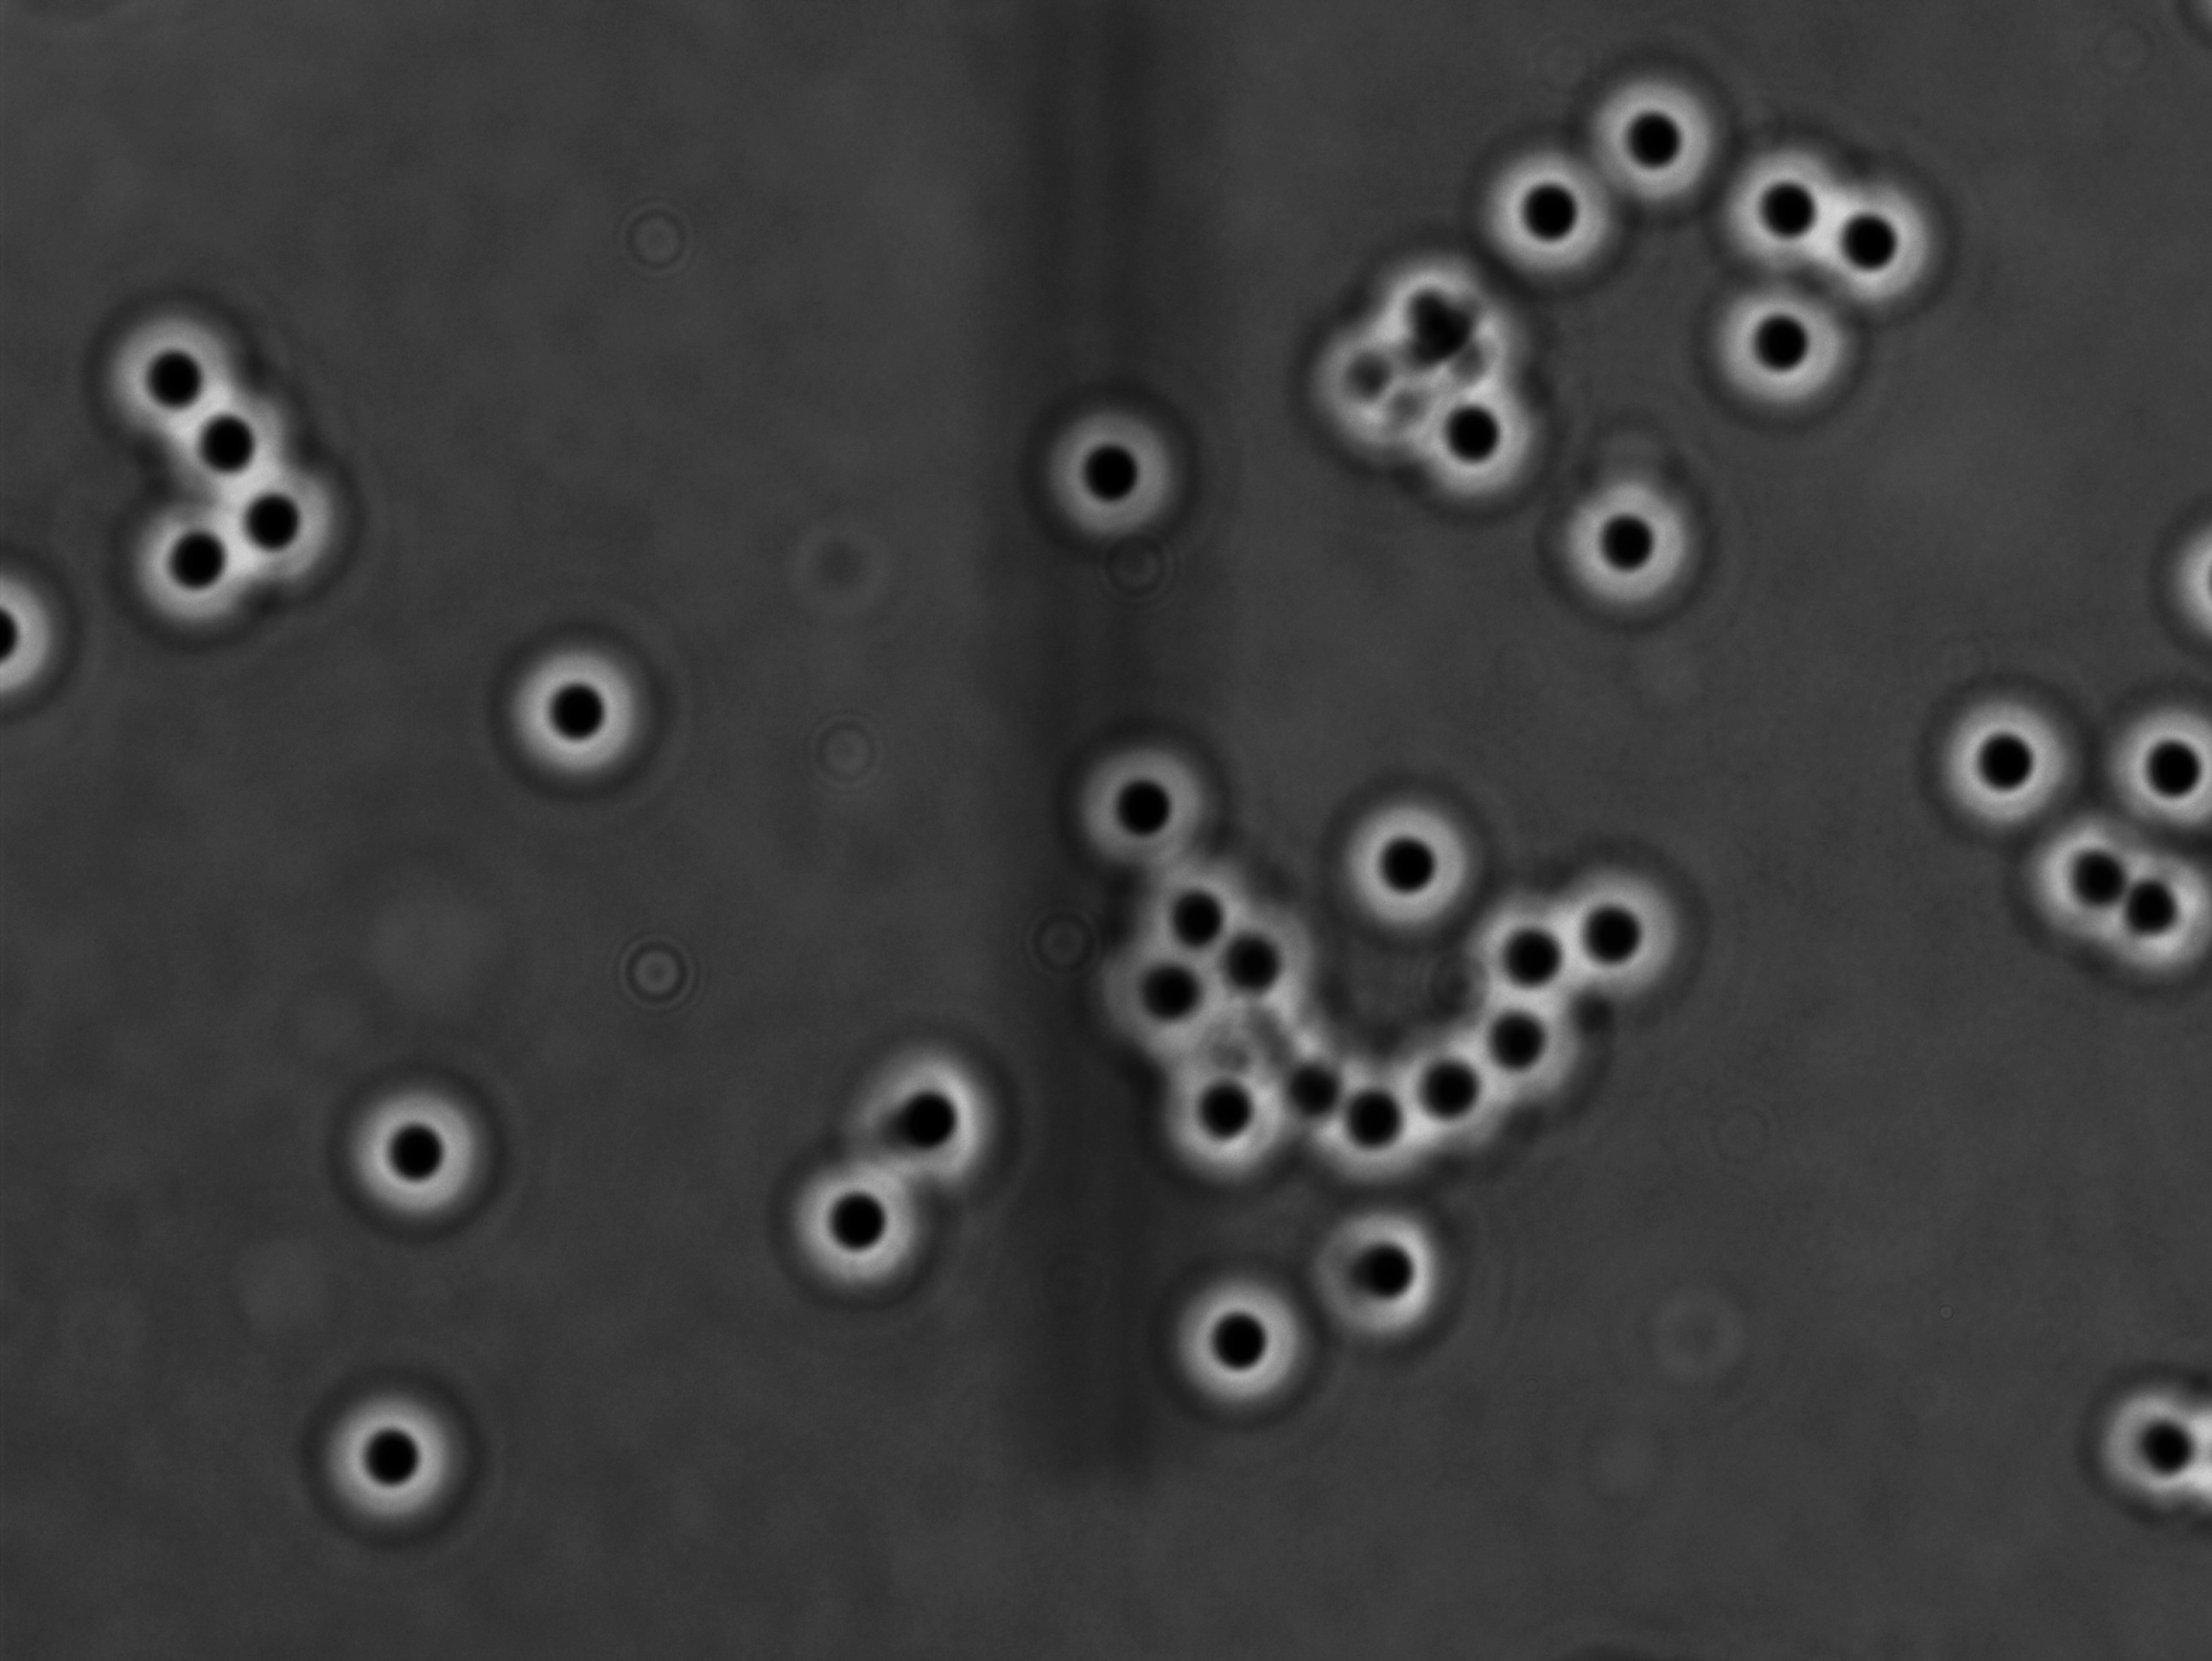depth:-60: (1284, 1171, 1497, 1371), (1150, 1242, 1366, 1438), (1301, 754, 1507, 940), (1685, 249, 1881, 445), (1900, 668, 2093, 850), (1783, 138, 1971, 321), (488, 621, 679, 801), (1540, 450, 1727, 632), (1017, 389, 1202, 567), (769, 1138, 952, 1314), (307, 1375, 494, 1548), (1460, 117, 1642, 291), (1685, 124, 1867, 298), (110, 483, 293, 654), (323, 1068, 502, 1234), (1574, 49, 1743, 218), (860, 1038, 1036, 1197), (1387, 352, 1554, 516), (194, 447, 366, 597), (96, 297, 263, 445), (138, 363, 305, 511)
